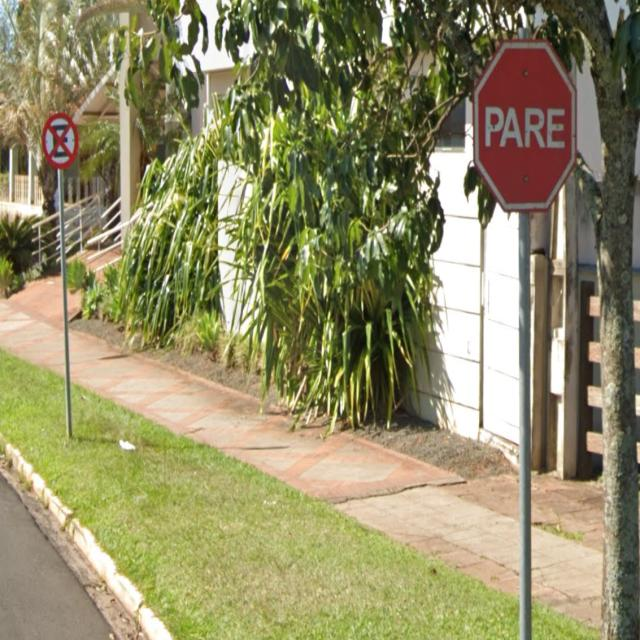no parking: (36, 105, 84, 181)
stop: (465, 14, 583, 234)
